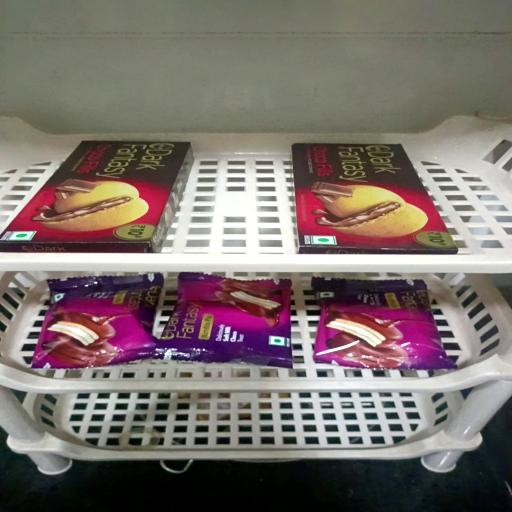Choco Fills: (0, 139, 191, 251), (292, 146, 456, 256)
Choco Pie: (312, 277, 455, 371), (29, 273, 163, 370), (160, 273, 293, 367)
